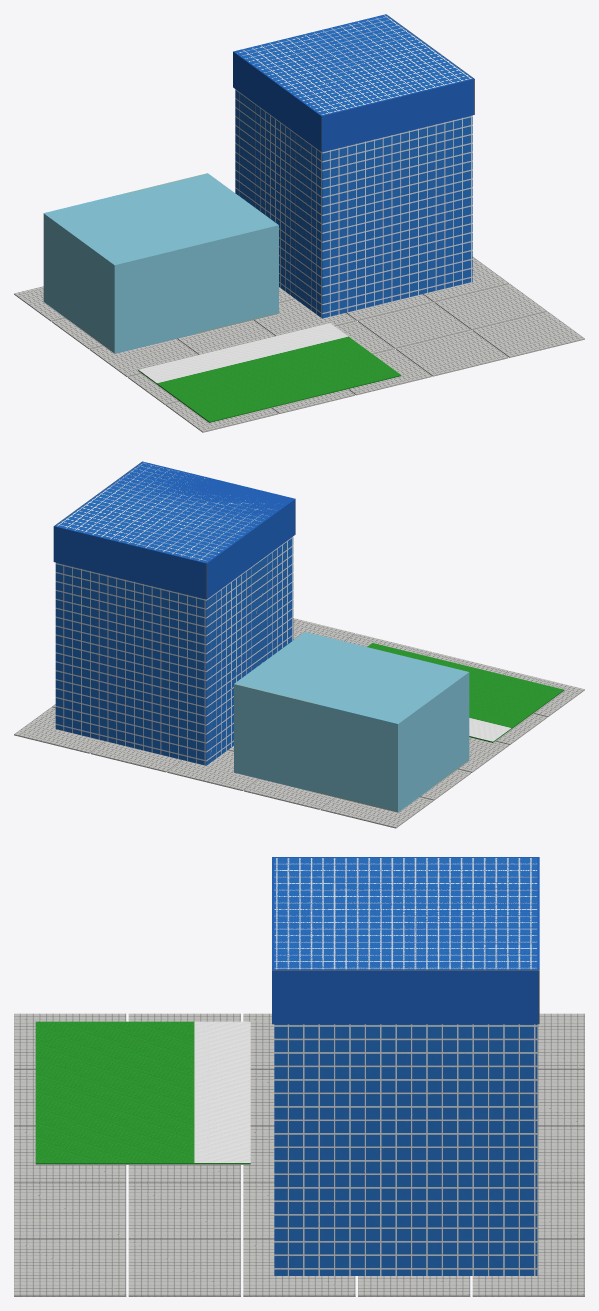
3 renders of one model, top to bottom at view 1: azimuth 30°, elevation 25°; view 2: azimuth 150°, elevation 25°; view 3: azimuth 270°, elevation 25°, orthographic. The views are drawn at different scales.
Visible parts, largest first — view 1: 28185_B26_Ghent_University_Korea; view 2: 28185_B26_Ghent_University_Korea; view 3: 28185_B26_Ghent_University_Korea.
Boxes of the visible parts, left/top/right/bottom form: 28185_B26_Ghent_University_Korea: left=14, top=14, right=584, bottom=432; 28185_B26_Ghent_University_Korea: left=14, top=461, right=584, bottom=828; 28185_B26_Ghent_University_Korea: left=14, top=857, right=584, bottom=1296.
Bounding box in the file's own units: 55.8 × 28.5 × 47.8.
Materials: 1 (1 with a texture image).
